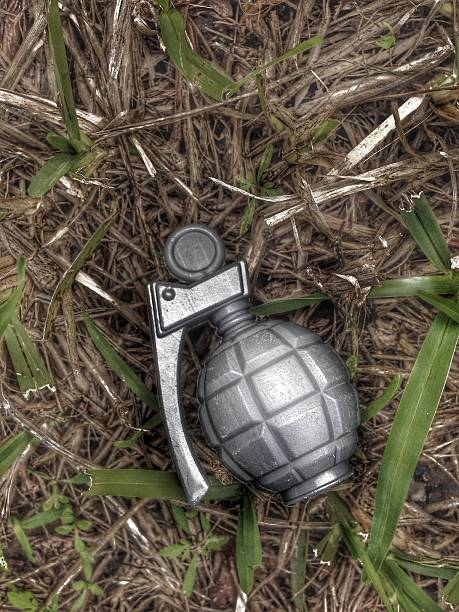e1: (147, 219, 363, 501)
